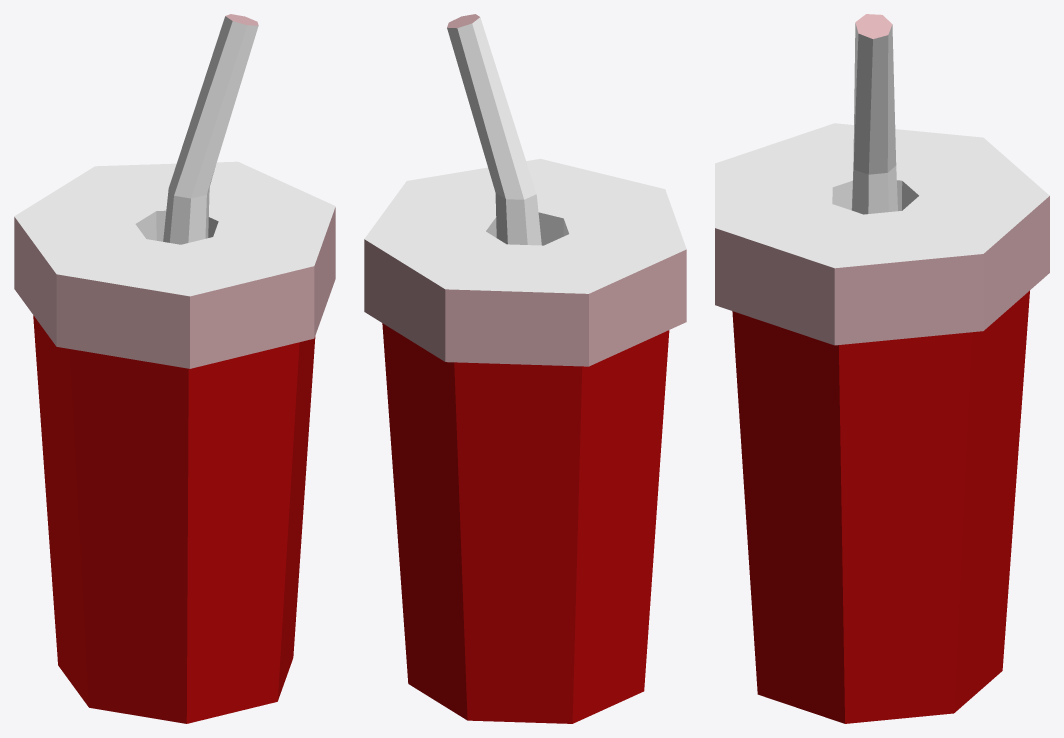
The model's file is SquareRefrigerant.fbx.
The picture shows the model from 3 angles, left to right: view 1: azimuth 30°, elevation 25°; view 2: azimuth 150°, elevation 25°; view 3: azimuth 270°, elevation 25°; orthographic projection. The views are drawn at different scales.
Parts seen in each view (by area): view 1: Cylinder; view 2: Cylinder; view 3: Cylinder.
Boxes of the visible parts, <box> form: Cylinder: <box>14,14,335,723</box>; Cylinder: <box>364,14,686,723</box>; Cylinder: <box>715,14,1049,723</box>.
Bounding box in the file's own units: 218 × 479 × 213.
Materials: 1 (1 with a texture image).
